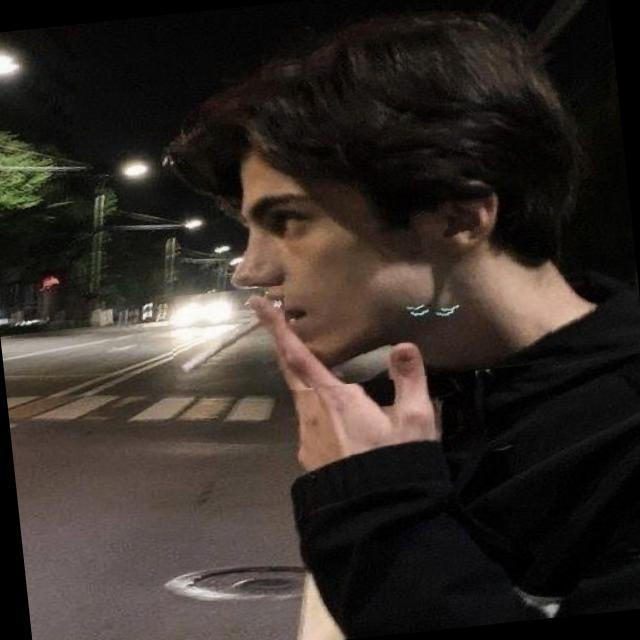cigarette: (167, 285, 294, 389)
